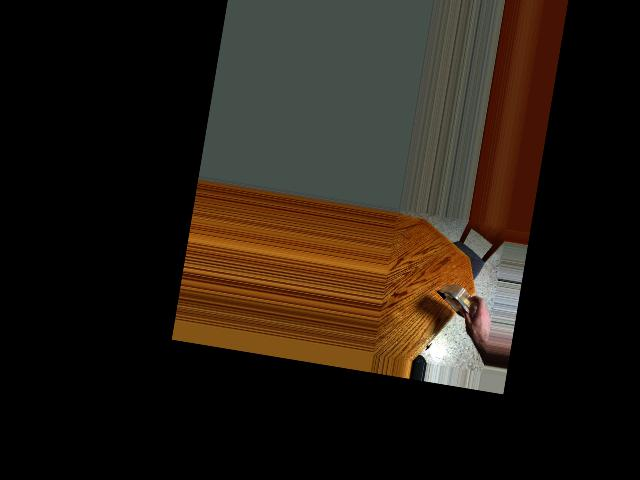cheese: (434, 276, 486, 335)
